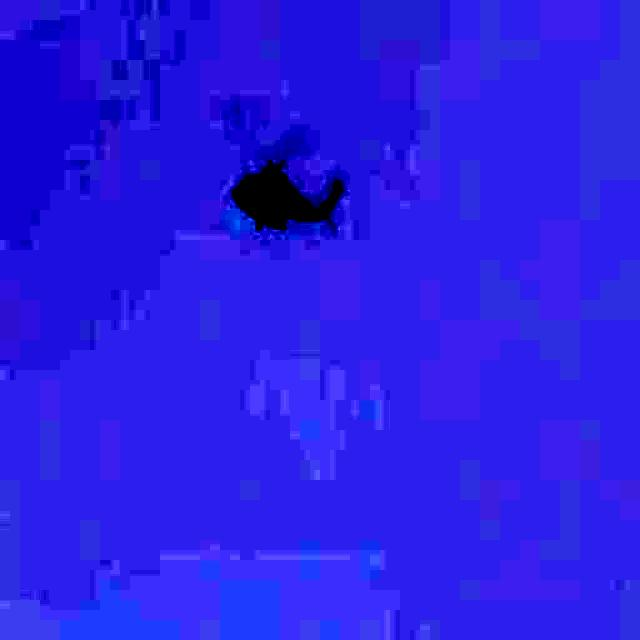drone: (225, 112, 359, 271)
